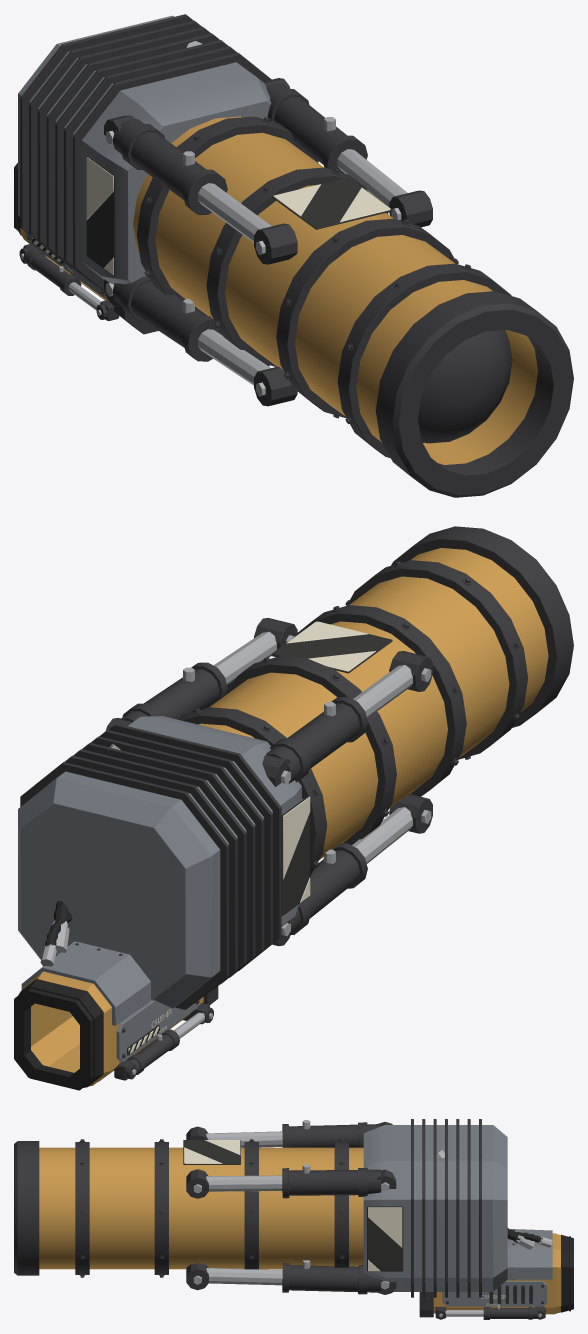
The model's file is crusher.glb.
3 views of the same model, one above another, from view 1: azimuth 30°, elevation 25°; view 2: azimuth 150°, elevation 25°; view 3: azimuth 270°, elevation 25° (orthographic). The views are drawn at different scales.
Visible parts, largest first — view 1: Body; view 2: Body; view 3: Body.
Boxes of the visible parts, x1=… form: Body: x1=14, y1=14, x2=573, y2=497; Body: x1=14, y1=526, x2=573, y2=1090; Body: x1=14, y1=1119, x2=573, y2=1319.
Size of the model in its own units: 0.428 by 0.5292 by 1.55.
